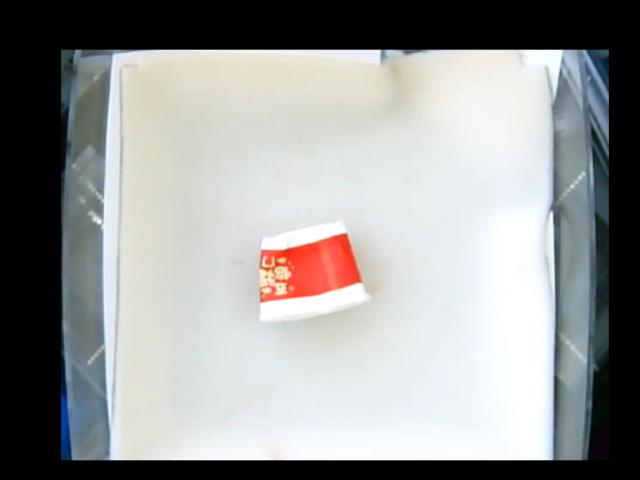Cup: (254, 222, 372, 326)
